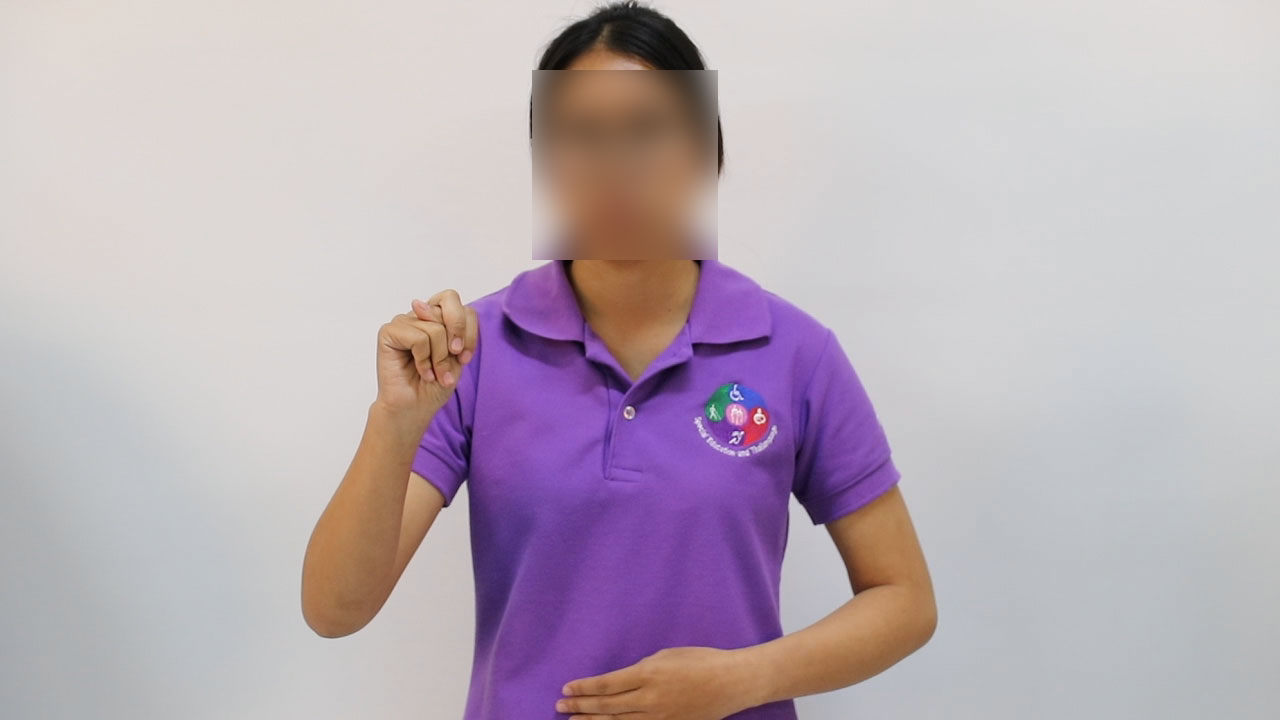nor: (361, 282, 490, 415)
